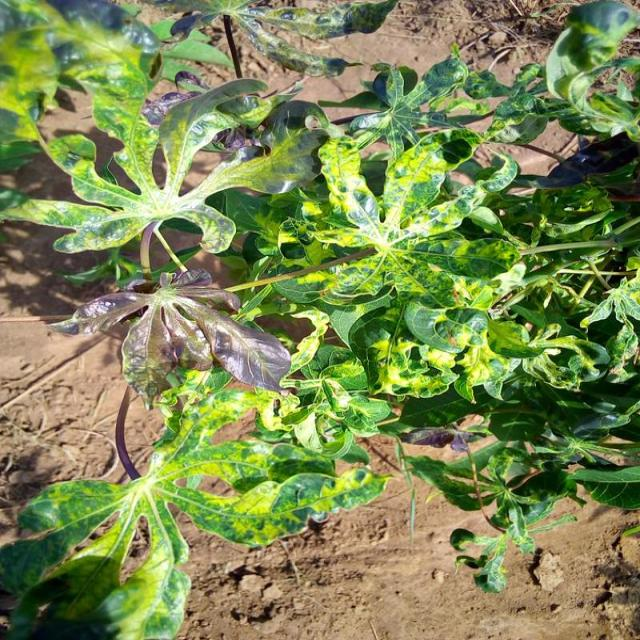cassava leaf: (0, 1, 638, 636), (1, 367, 393, 638), (46, 264, 292, 410)
